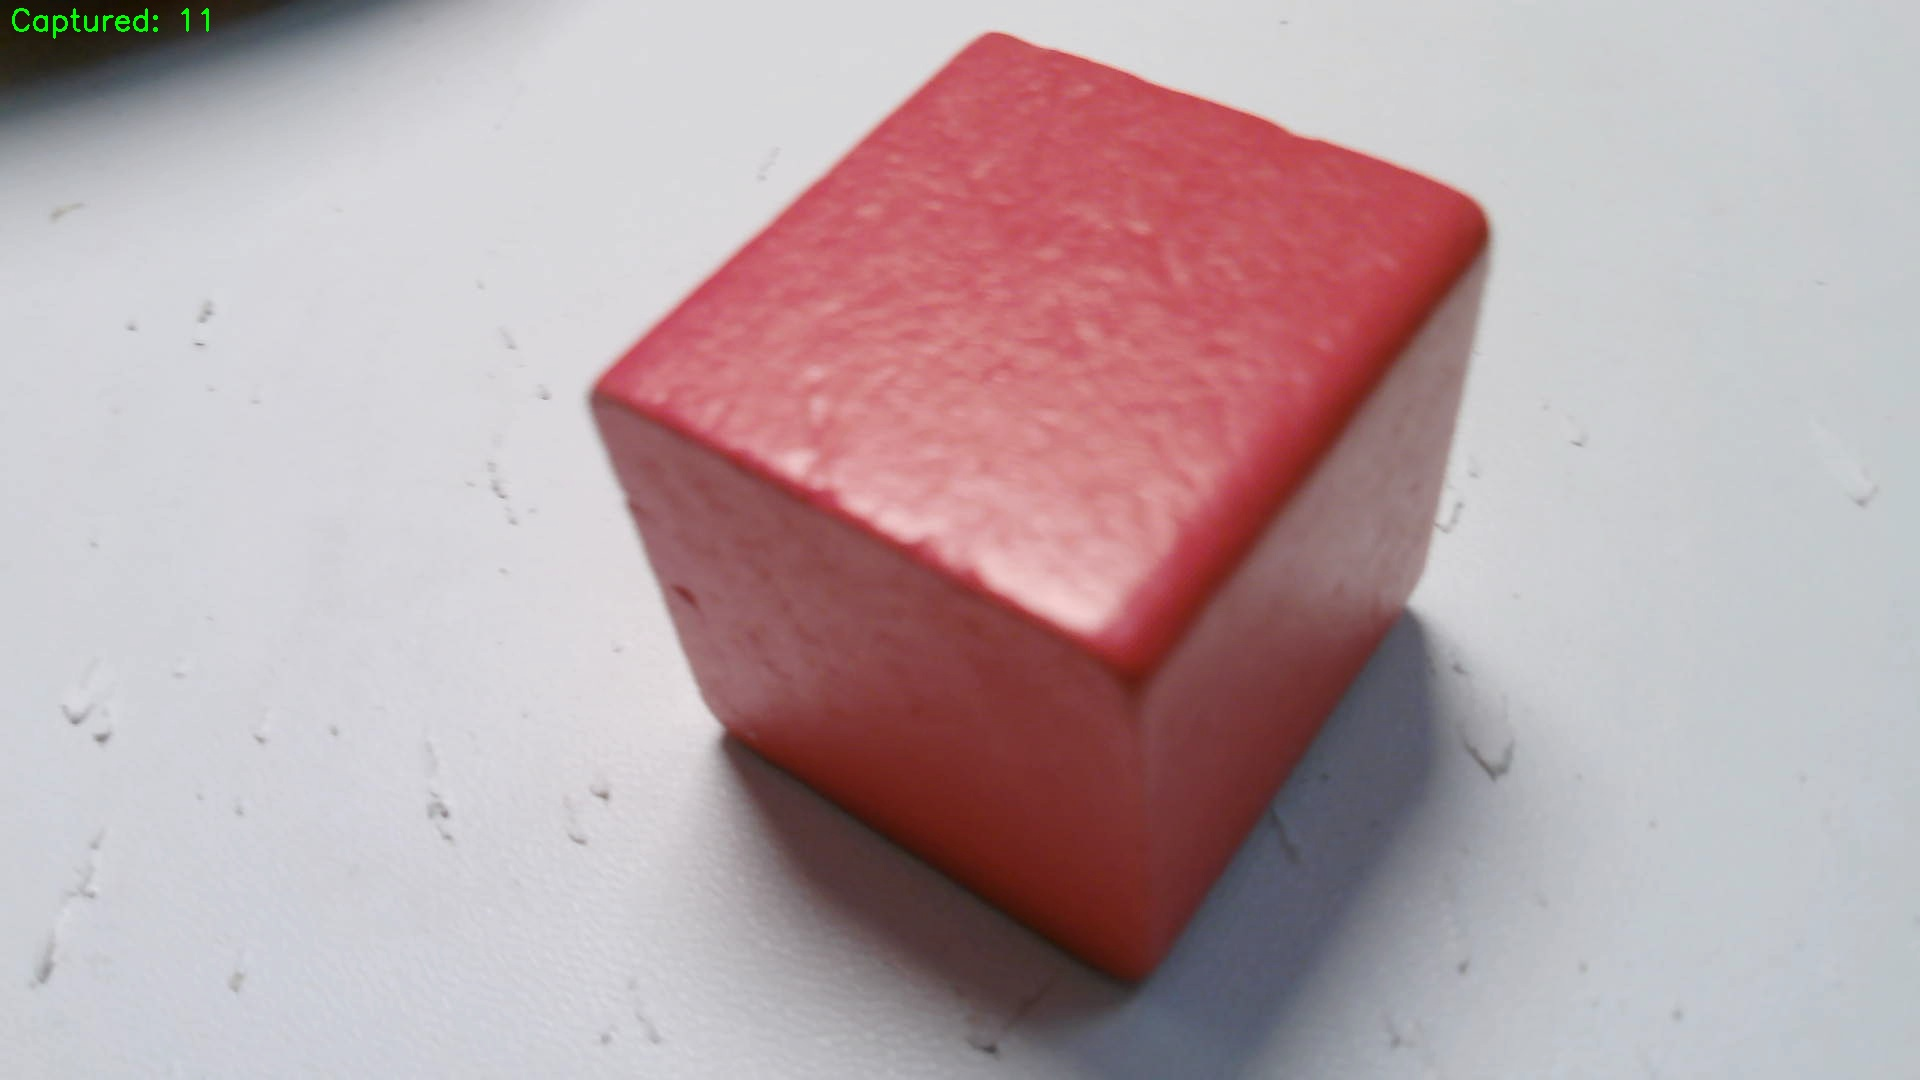red: (591, 33, 1495, 986)
